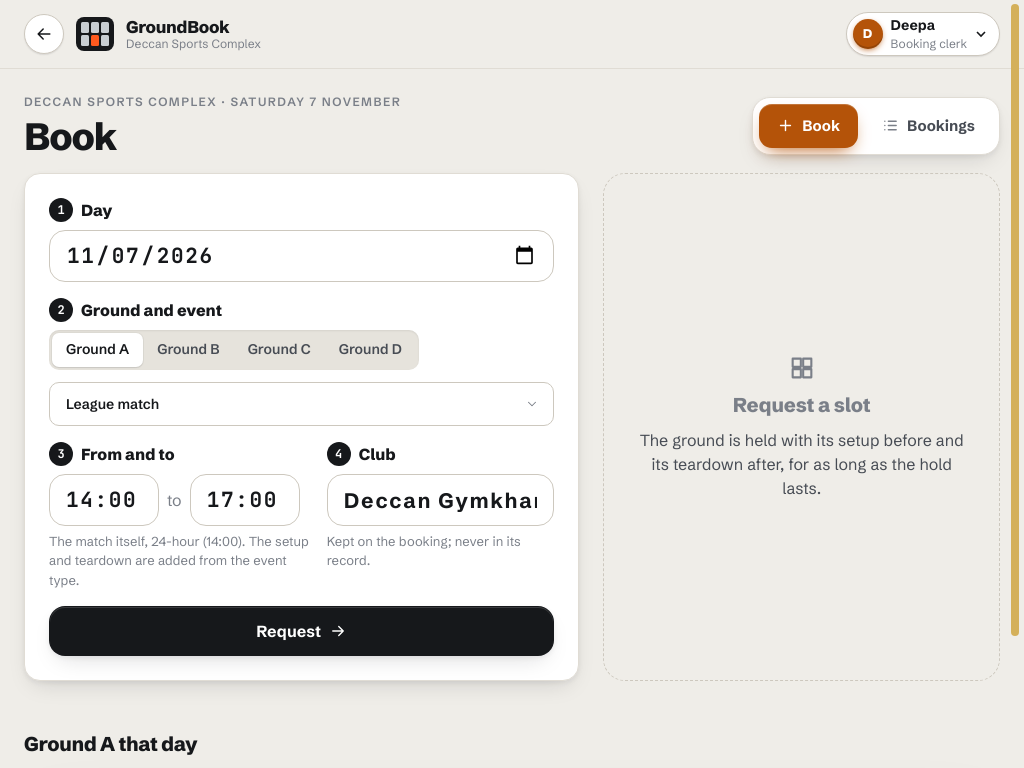
Test case: F-07 · When the day says no › after the refusal Ground A's head still says 1 held
Check: the button "Ground A" is shown, box [52,333,143,367]
Check: the text "League match" is shown, box [66,395,159,413]
Click the button with aria-label "Event type".
click(113, 404)  # box [49,382,554,426]
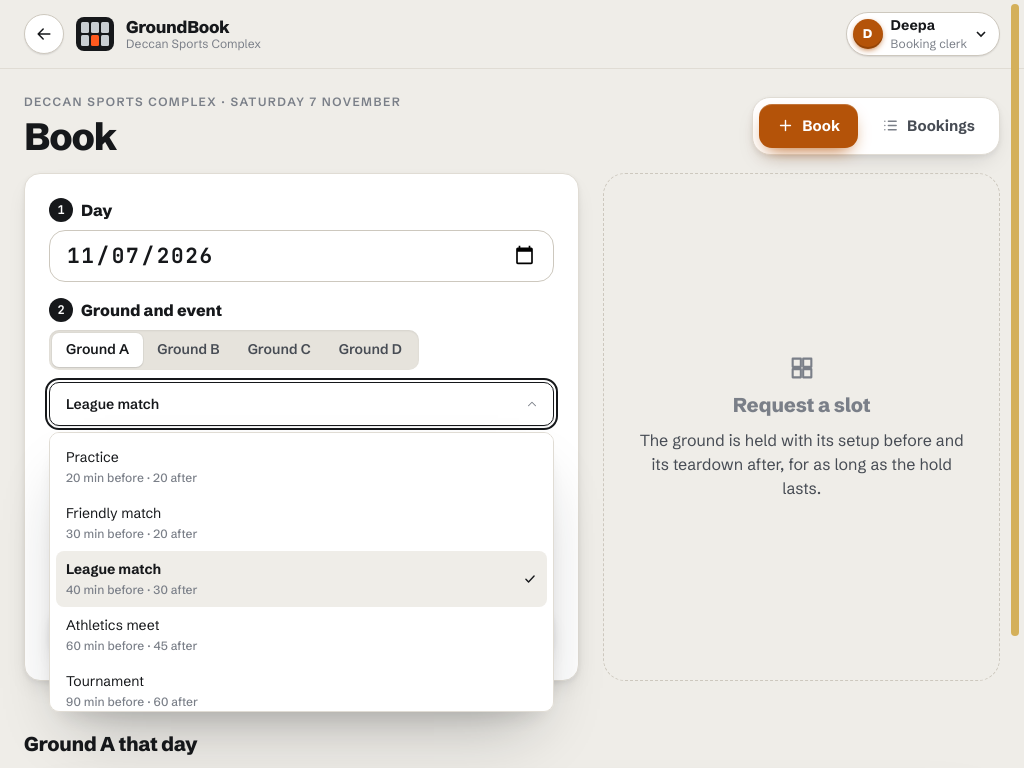
Click the option "Practice 20 min before · 20 after".
click(92, 457)  # box [66,448,197,485]
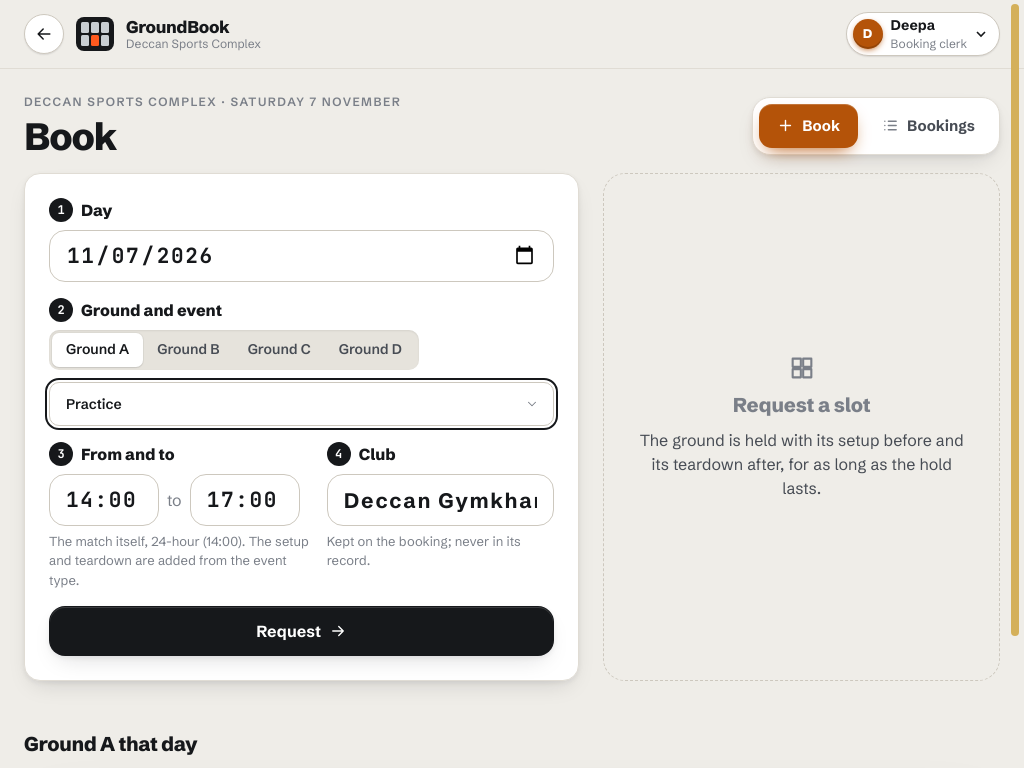
Type "17:00" into the field named "From".
click(104, 500); type("17:00")  # box [50,475,158,525]
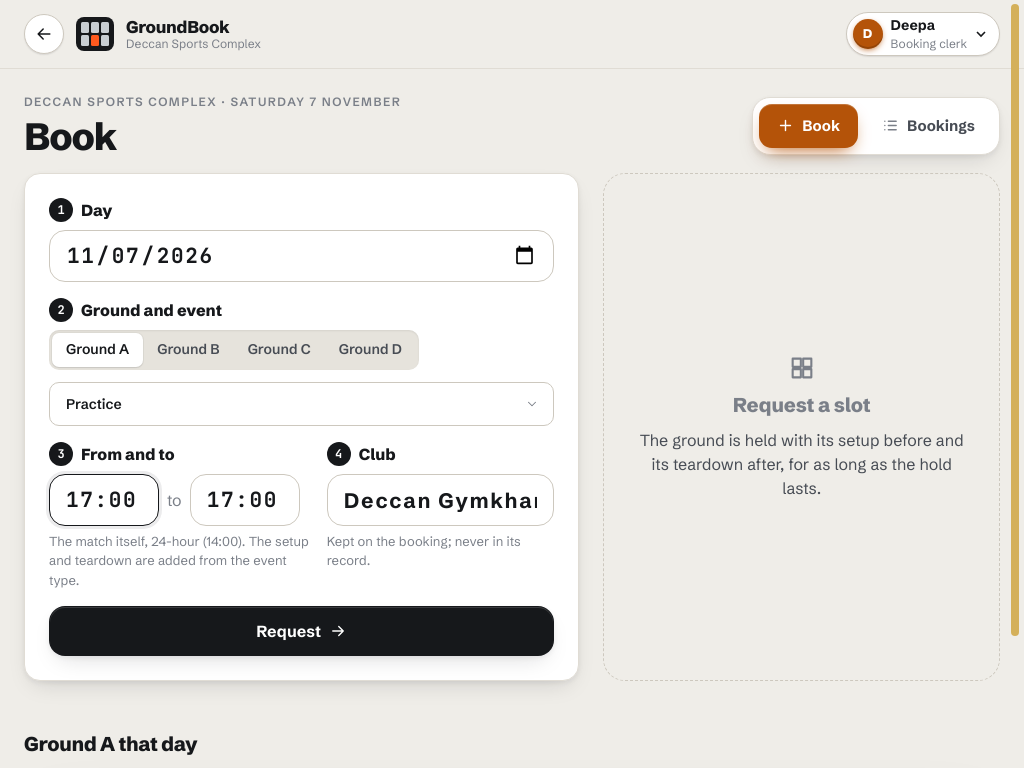
Type "18:00" into the field named "To".
click(245, 500); type("18:00")  # box [191,475,299,525]
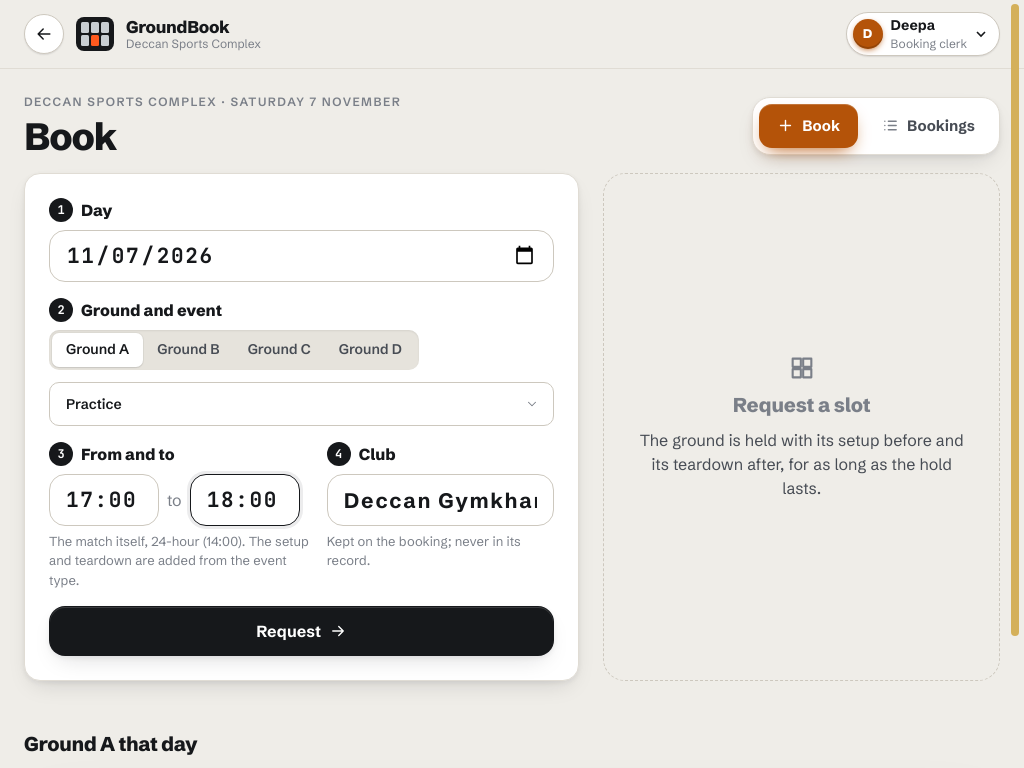
Click the button "Request".
click(302, 631)  # box [49,606,554,656]
(page scrolled)
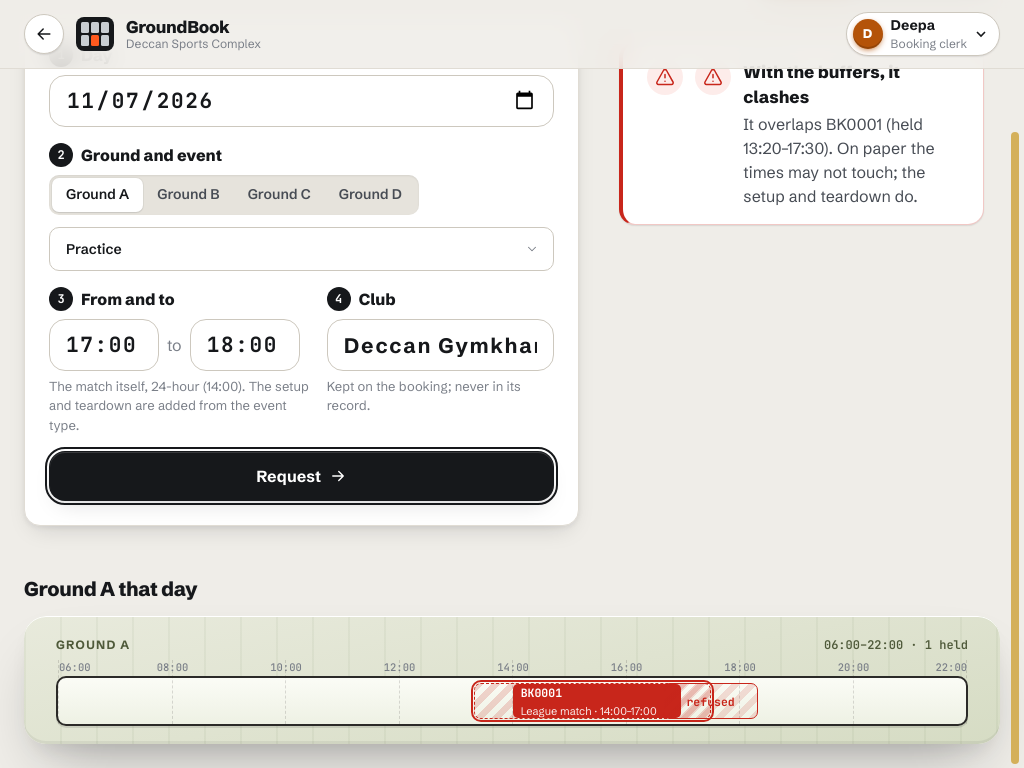
Check: the text "With the buffers, it clashes" is shown, box [743,61,900,107]
Check: the text "refused" is shown, box [686,693,735,710]
